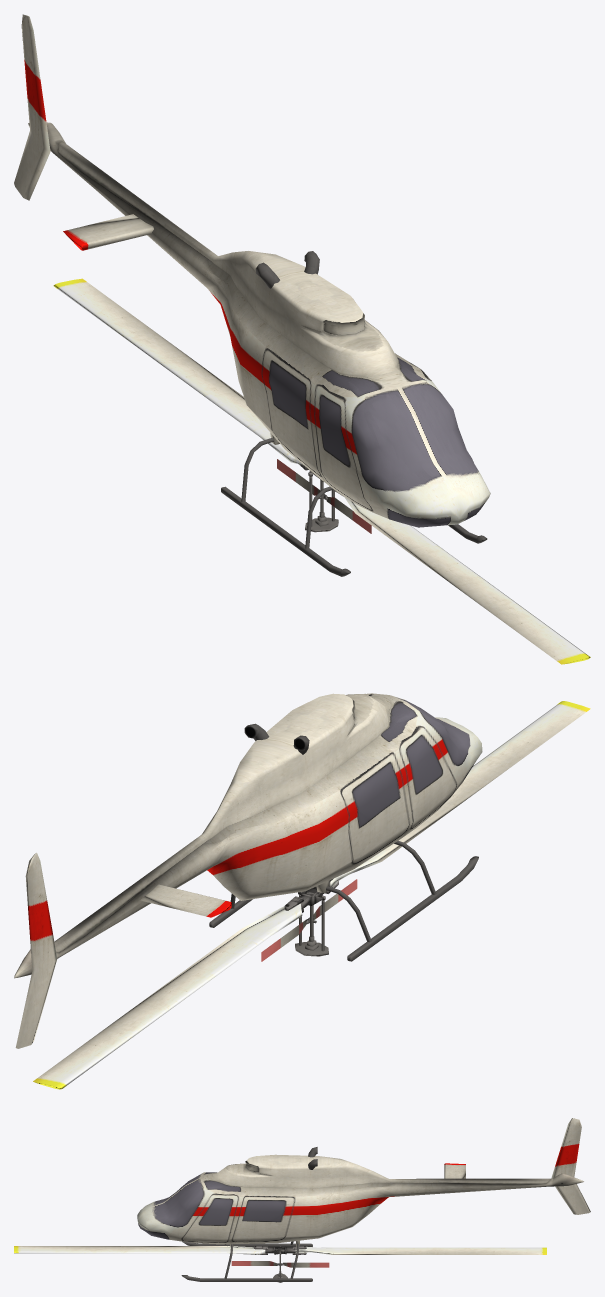
Rendered from helicopter_bell.fbx.
The picture shows the model from 3 angles, top to bottom: view 1: azimuth 30°, elevation 25°; view 2: azimuth 150°, elevation 25°; view 3: azimuth 270°, elevation 25°; orthographic projection. The views are drawn at different scales.
Parts seen in each view (by area): view 1: body_main, Mesh, Mesh_ncl1_1; view 2: body_main, Mesh, Mesh_ncl1_1; view 3: body_main, Mesh, Mesh_ncl1_1.
Part boxes in pixels (x1,y1,x2,y2): body_main: (14,14,490,576); Mesh: (53,278,590,664); Mesh_ncl1_1: (277,459,371,533); body_main: (14,693,482,1048); Mesh: (33,701,590,1089); Mesh_ncl1_1: (261,879,357,961); body_main: (137,1118,590,1281); Mesh: (14,1246,546,1282); Mesh_ncl1_1: (231,1261,329,1267).
Bounding box in the file's own units: 181 × 350 × 1158.
